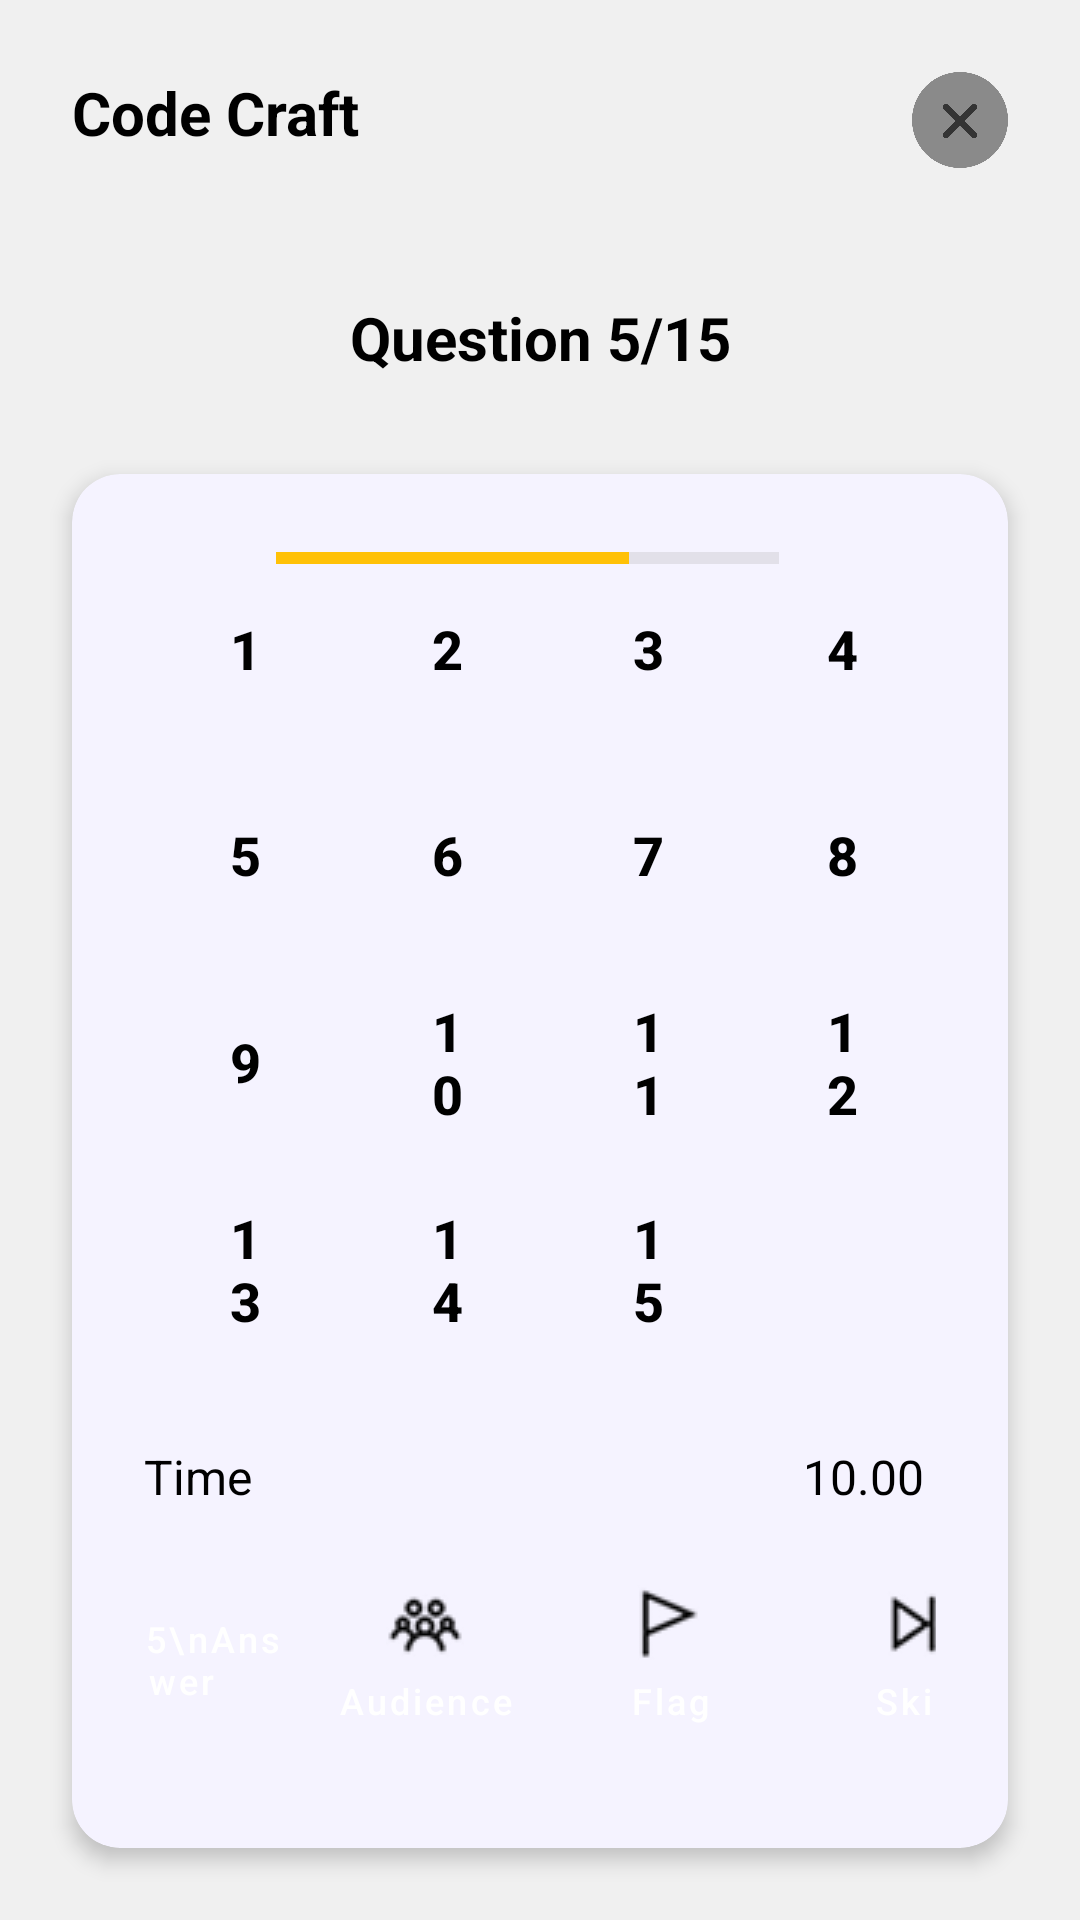

Icon bounding boxes for this 1080×1920 phone screenshot, format [left=x1, top=y1, right=x2, bottom=y2]:
Close: [left=912, top=72, right=1008, bottom=168]
